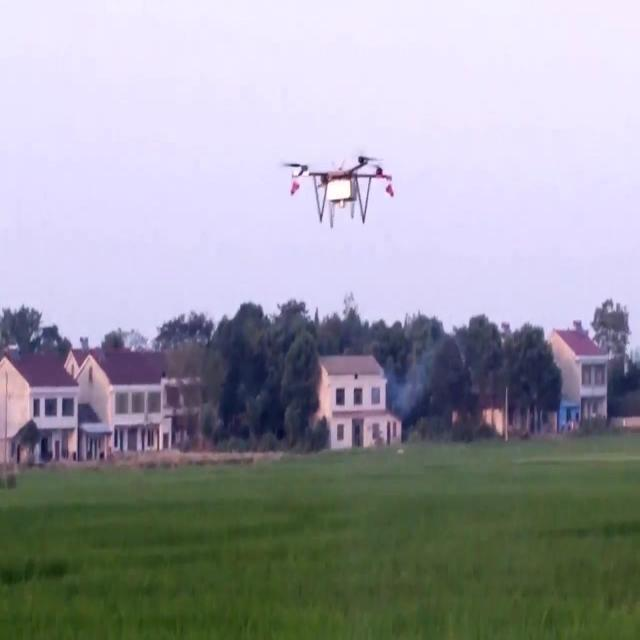UAV: (283, 156, 394, 228)
